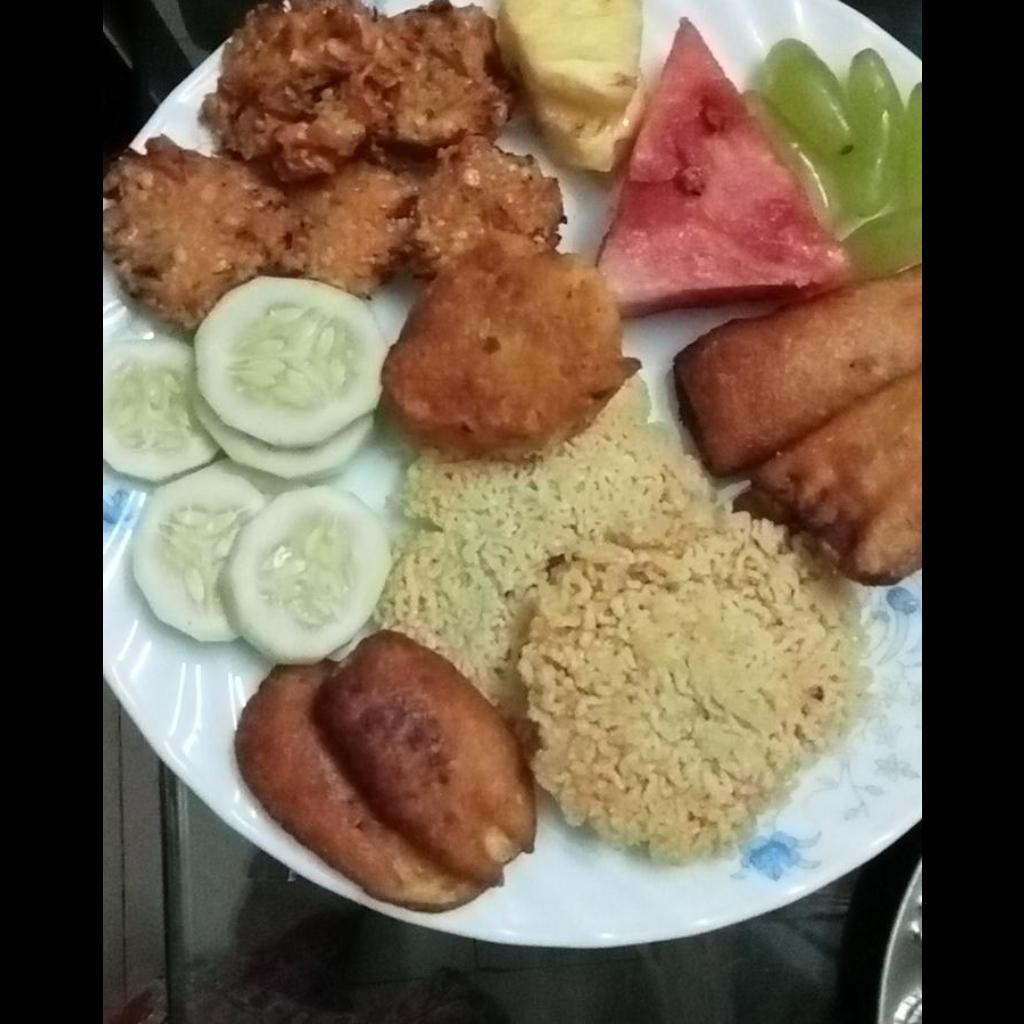beguni: (236, 631, 536, 913), (669, 277, 920, 588)
chop-alu: (383, 248, 622, 455)
cucumber: (104, 281, 394, 661)
grapes: (763, 38, 920, 276)
peyaju: (106, 1, 568, 334)
pineapple: (497, 4, 657, 162)
sweets: (390, 377, 864, 856)
watermelon: (599, 24, 850, 309)
